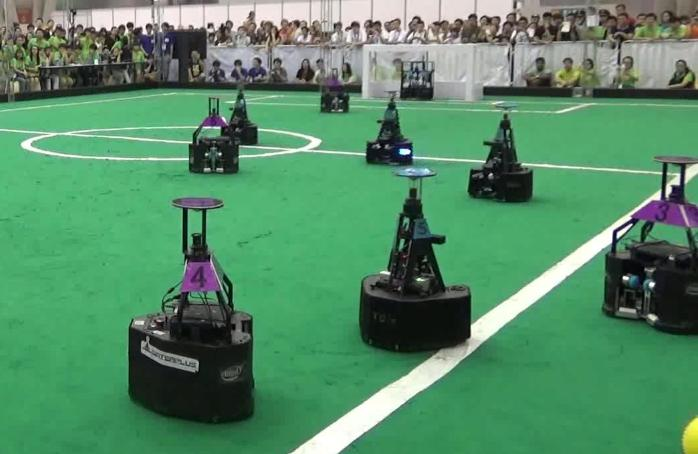robot: (121, 188, 261, 428), (356, 162, 472, 353), (596, 155, 698, 338), (465, 98, 537, 205), (180, 93, 244, 177), (361, 90, 421, 168)
